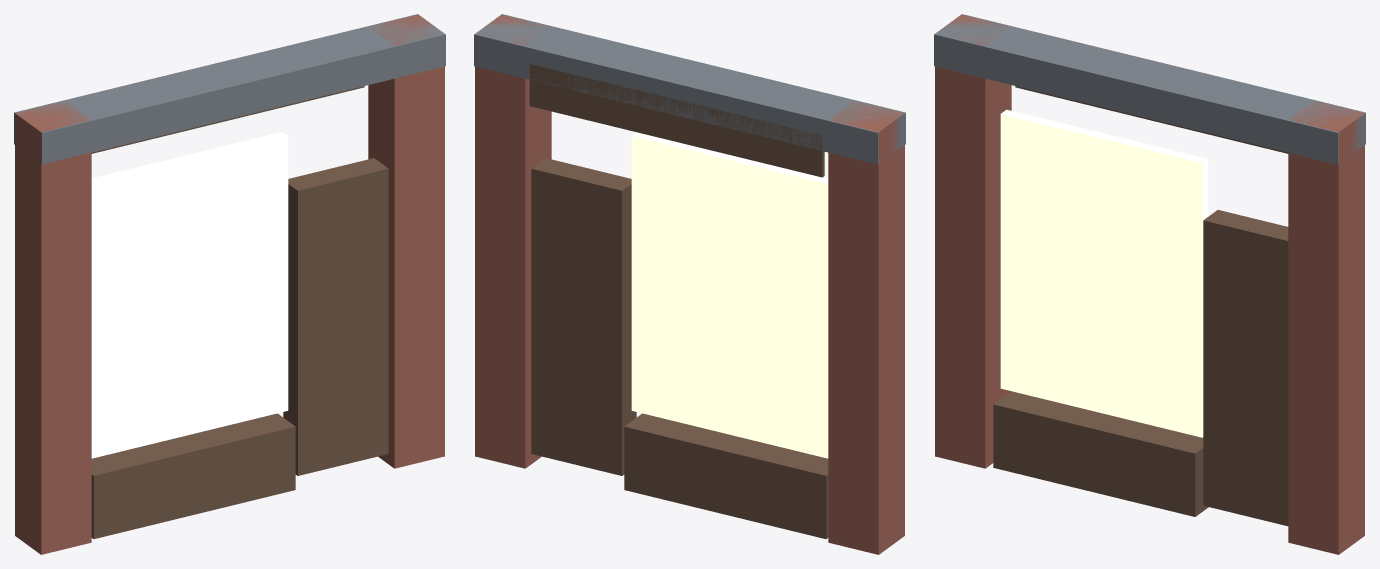
File: arkham_wall_brickshopfront.glb
3 views of the same model, side by side, from view 1: azimuth 30°, elevation 25°; view 2: azimuth 150°, elevation 25°; view 3: azimuth 330°, elevation 25° (orthographic).
Visible parts, largest first — view 1: Arkham_Wall_BrickShopfront; view 2: Arkham_Wall_BrickShopfront; view 3: Arkham_Wall_BrickShopfront.
Boxes of the visible parts, x1,y1,x2,y2 form: Arkham_Wall_BrickShopfront: (14, 14, 445, 554); Arkham_Wall_BrickShopfront: (474, 14, 905, 554); Arkham_Wall_BrickShopfront: (934, 14, 1365, 554).
Size of the model in its own units: 4 by 4 by 0.48.
